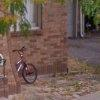Bicycle: (0, 44, 39, 88)
